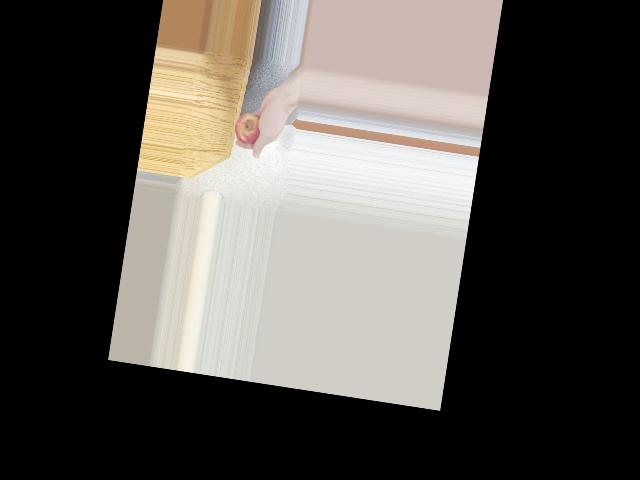apple: (231, 103, 267, 147)
